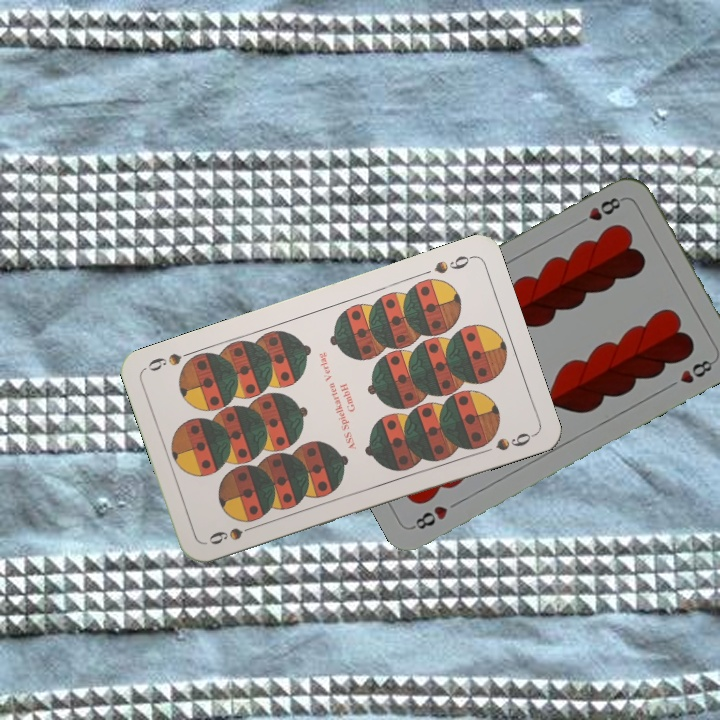H8: (573, 193, 627, 229), (409, 501, 451, 532)
S9: (205, 520, 261, 548), (430, 251, 476, 277)
